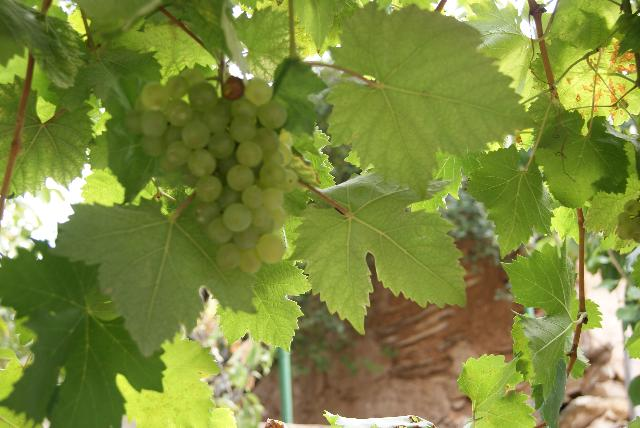grapes: (125, 69, 298, 274)
